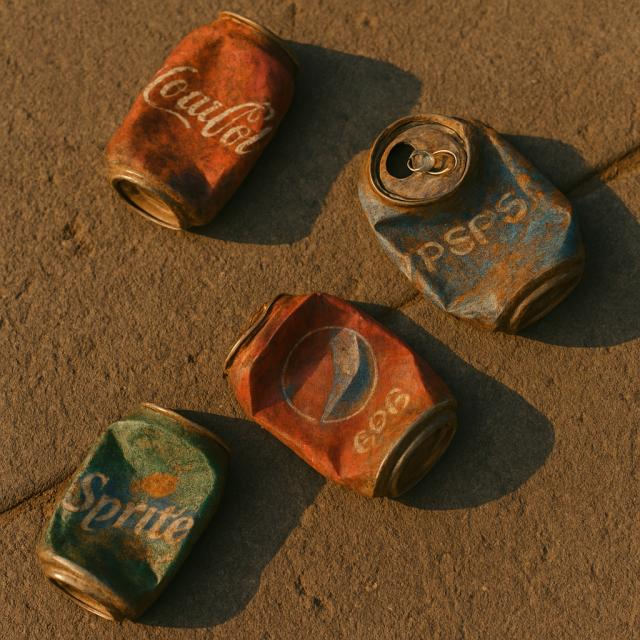aluminum: (233, 281, 464, 499), (359, 117, 587, 335), (21, 404, 238, 625), (108, 14, 296, 232)
